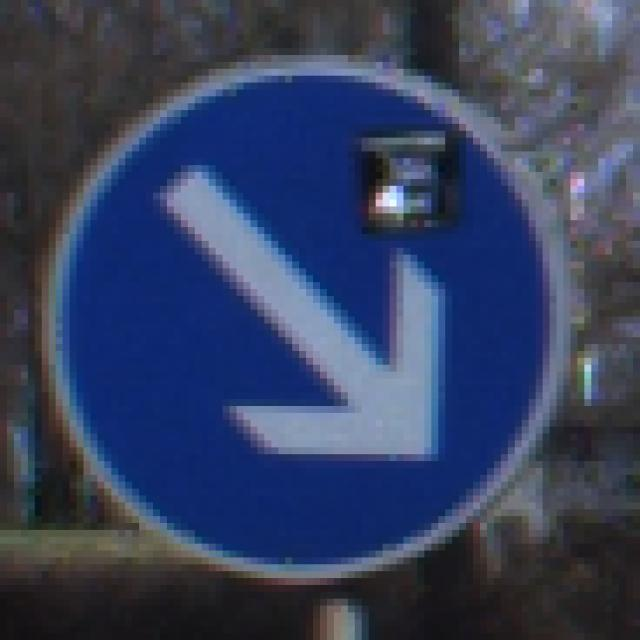compulsary keep right: (40, 47, 571, 584)
